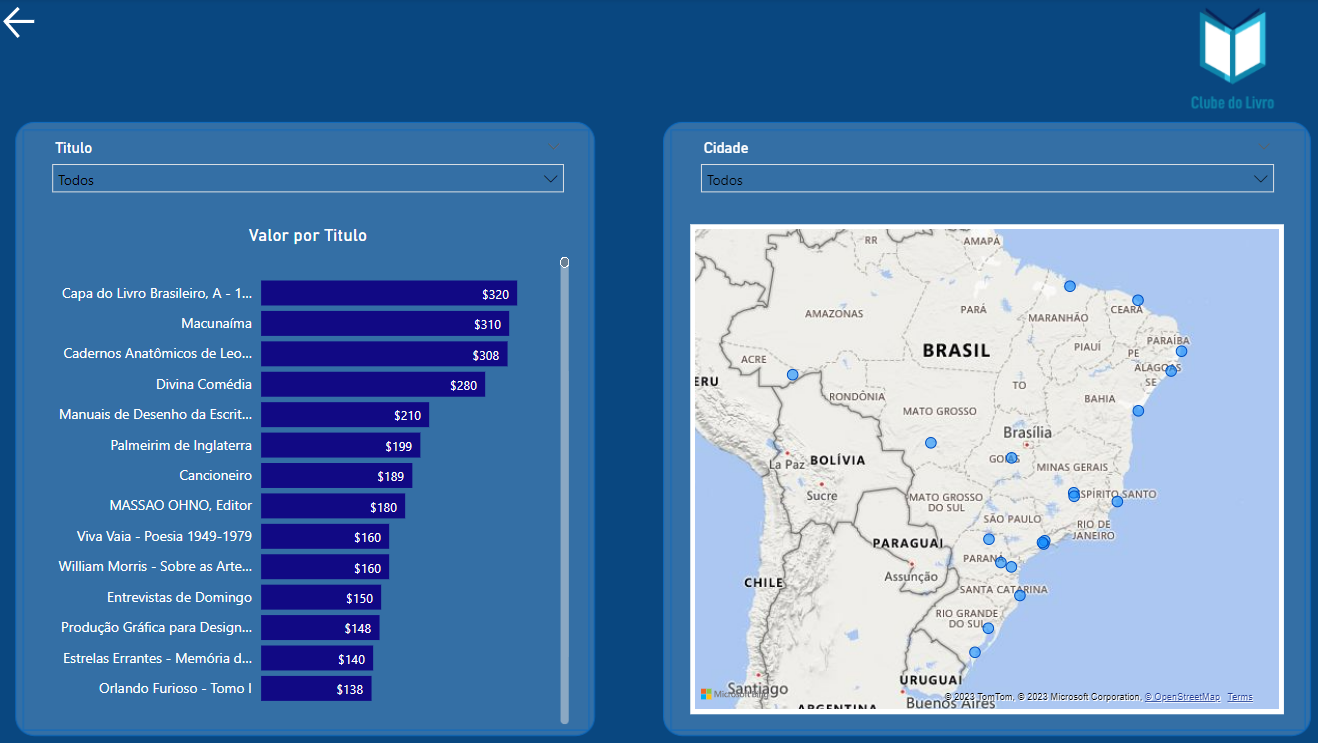

The dashboard page shown, as its layout file describes it:
{"tool":"powerbi","page":{"name":"Dash3","canvas":[1280,720],"ordinal":2},"visuals":[{"type":"map","fields":{"Y":["Clientes.Latitude"],"X":["Clientes.Longitude"]},"box":[666.9,218.3,572.9,472.8],"z":0},{"type":"slicer","fields":{"Values":["Clientes.Cidade"]},"box":[666.9,131.5,572.9,77.2],"z":1000},{"type":"clusteredBarChart","title":"Valor por Titulo","fields":{"Category":["Catálogo livros.Titulo"],"Y":["Sum(Catálogo livros.Valor)"]},"box":[41,218.3,513.8,487.2],"z":2000},{"type":"slicer","fields":{"Values":["Catálogo livros.Titulo"]},"box":[41,131.5,513.8,77.2],"z":3000},{"type":"actionButton","box":[0,3.6,53.1,39.8],"z":4000}]}

Visuals, with their boxes in screenshot pixels (x1, y1, x2, y2), scaled from the page's 1280x720 canvas onto the 1318x743 screenshot:
map - Clientes.Latitude x Clientes.Longitude: 687:225:1277:713
slicer - Clientes.Cidade: 687:136:1277:215
"Valor por Titulo" clusteredBarChart: 42:225:571:728
slicer - Catálogo livros.Titulo: 42:136:571:215
actionButton: 0:4:55:45
